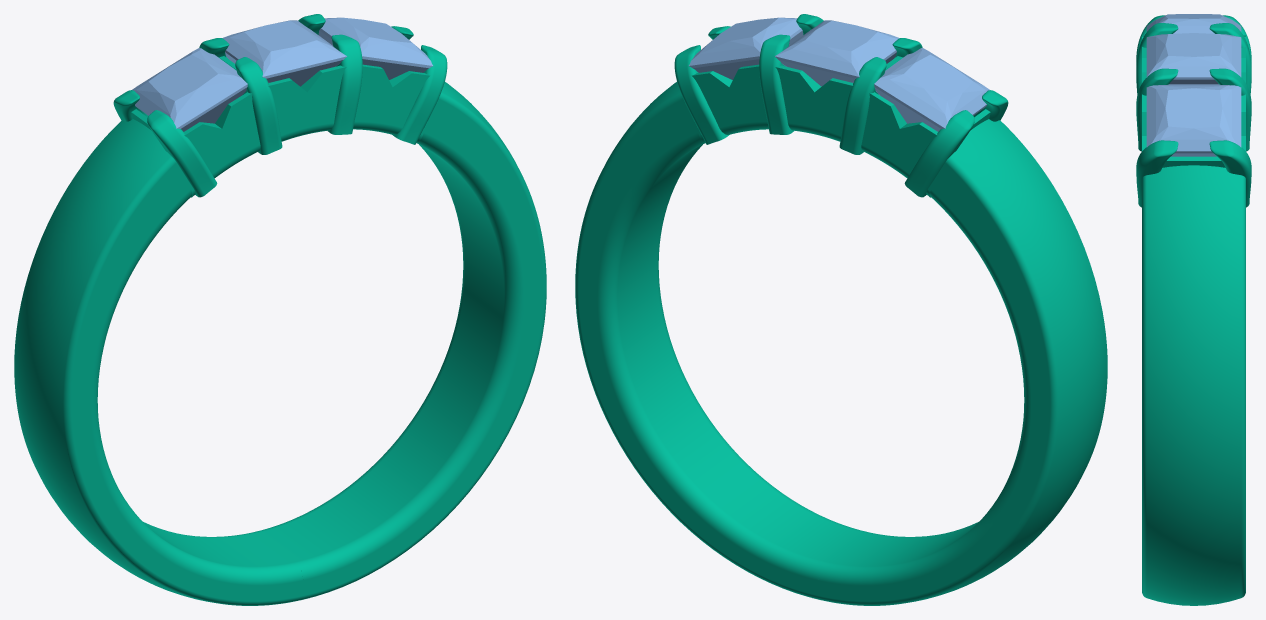
The picture shows the model from 3 angles, left to right: view 1: azimuth 30°, elevation 25°; view 2: azimuth 150°, elevation 25°; view 3: azimuth 270°, elevation 25°; orthographic projection. The views are drawn at different scales.
Parts seen in each view (by area): view 1: VR340.3dm, Diamond_Princess (×3), Bezel (×3); view 2: VR340.3dm, Diamond_Princess (×3), Bezel (×3); view 3: VR340.3dm, Diamond_Princess (×3), Bezel (×2).
Boxes of the visible parts, <box> form: VR340.3dm: <box>14,14,546,605</box>; Diamond_Princess (×3): <box>132,17,432,131</box>; Bezel (×3): <box>131,56,429,197</box>; VR340.3dm: <box>575,14,1107,605</box>; Diamond_Princess (×3): <box>689,17,989,131</box>; Bezel (×3): <box>692,56,990,197</box>; VR340.3dm: <box>1136,15,1251,605</box>; Diamond_Princess (×3): <box>1146,14,1241,156</box>; Bezel (×2): <box>1142,47,1245,167</box>.
Bounding box in the file's own units: 2.72 × 2.88 × 0.5643.
